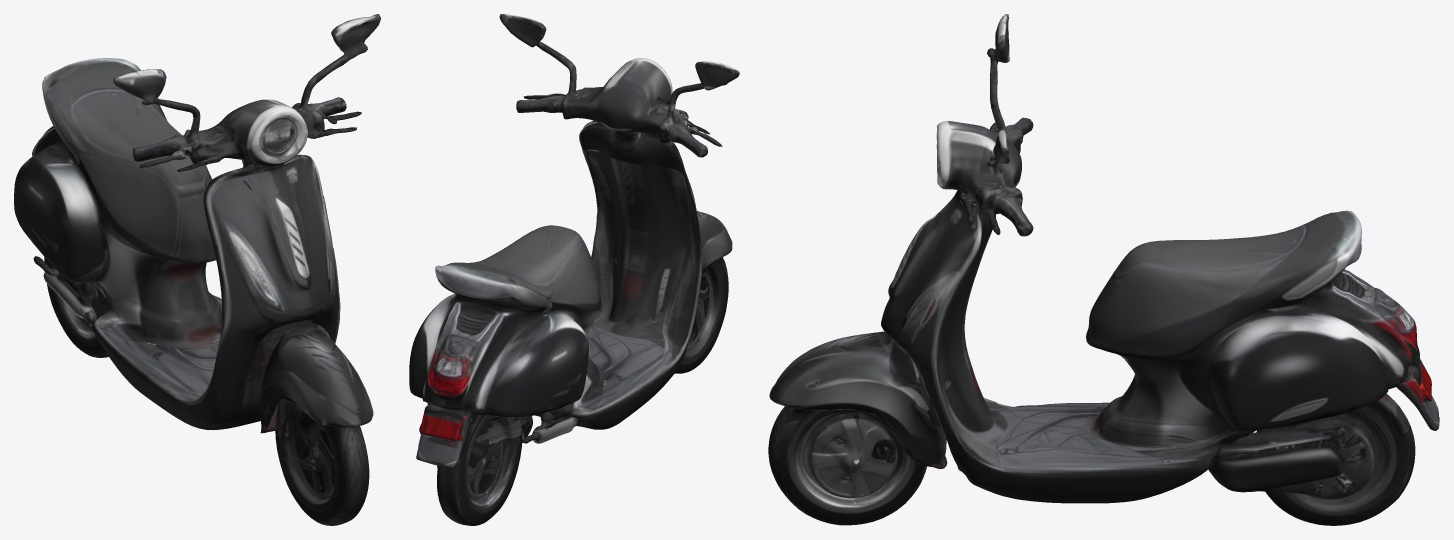
The model's file is Ampere_Primus_0905123738.fbx.
3 renders of one model, left to right at view 1: azimuth 30°, elevation 25°; view 2: azimuth 150°, elevation 25°; view 3: azimuth 270°, elevation 25°, orthographic. The views are drawn at different scales.
Parts seen in each view (by area): view 1: Mesh_0; view 2: Mesh_0; view 3: Mesh_0.
Boxes of the visible parts, <box> form: Mesh_0: <box>14,14,380,525</box>; Mesh_0: <box>409,14,739,525</box>; Mesh_0: <box>768,14,1439,525</box>.
Size of the model in its own units: 96.67 by 146 by 200.
Materials: 1 (1 with a texture image).
